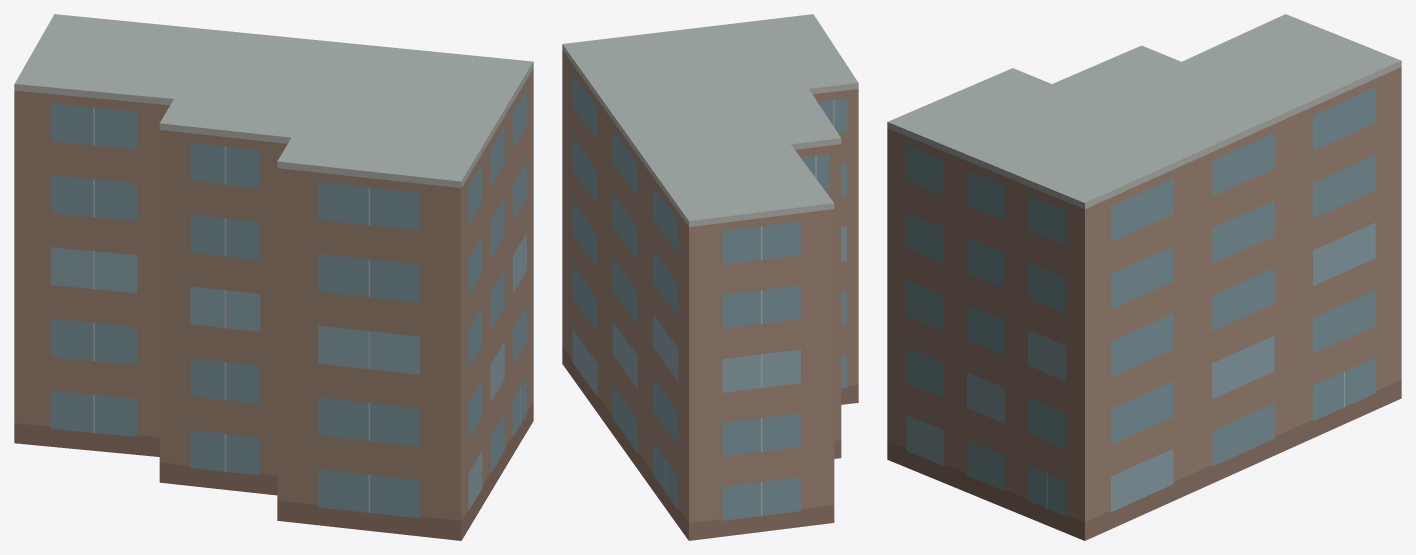
The model's file is survey-upis-32781103.glb.
3 views of the same model, side by side, from view 1: azimuth 30°, elevation 25°; view 2: azimuth 150°, elevation 25°; view 3: azimuth 270°, elevation 25° (orthographic). The views are drawn at different scales.
Parts seen in each view (by area): view 1: survey-upis-32781103.tmp; view 2: survey-upis-32781103.tmp; view 3: survey-upis-32781103.tmp.
Boxes of the visible parts, x1=… form: survey-upis-32781103.tmp: x1=14, y1=14, x2=533, y2=540; survey-upis-32781103.tmp: x1=562, y1=14, x2=858, y2=540; survey-upis-32781103.tmp: x1=887, y1=14, x2=1401, y2=540.
Bounding box in the file's own units: 15.86 × 13.2 × 18.22.
